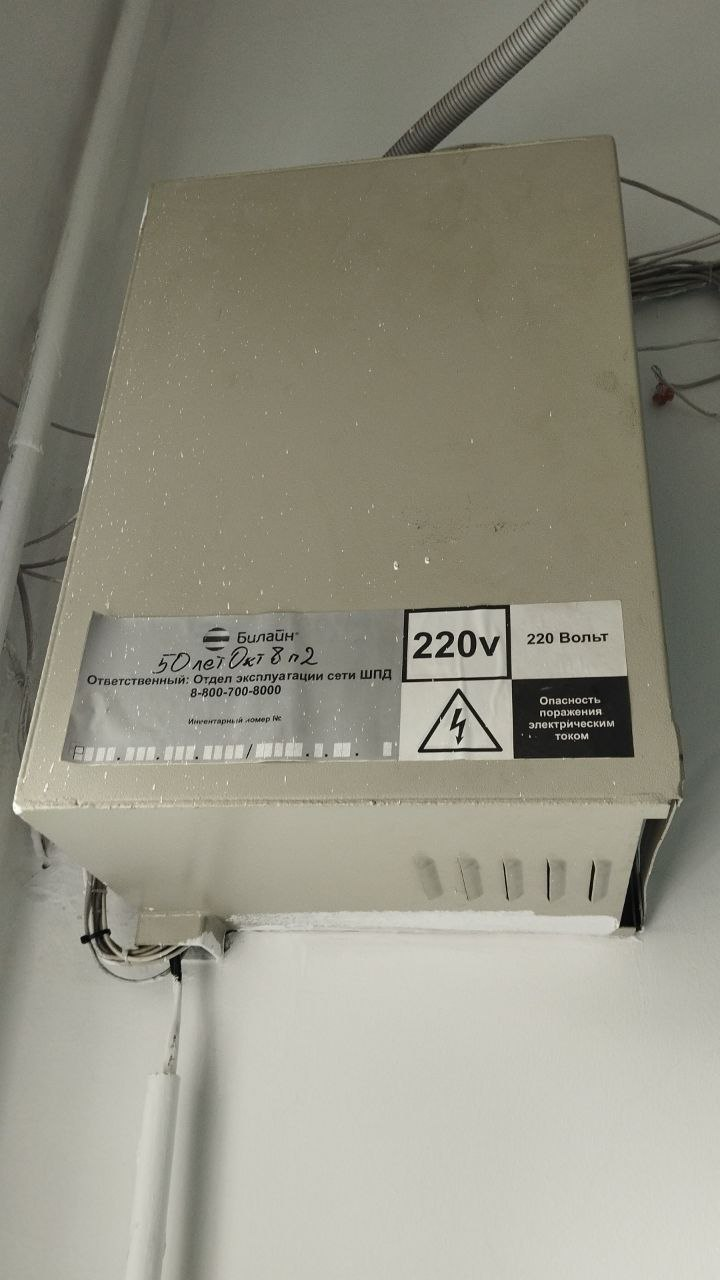sv-5: (8, 126, 697, 946)
